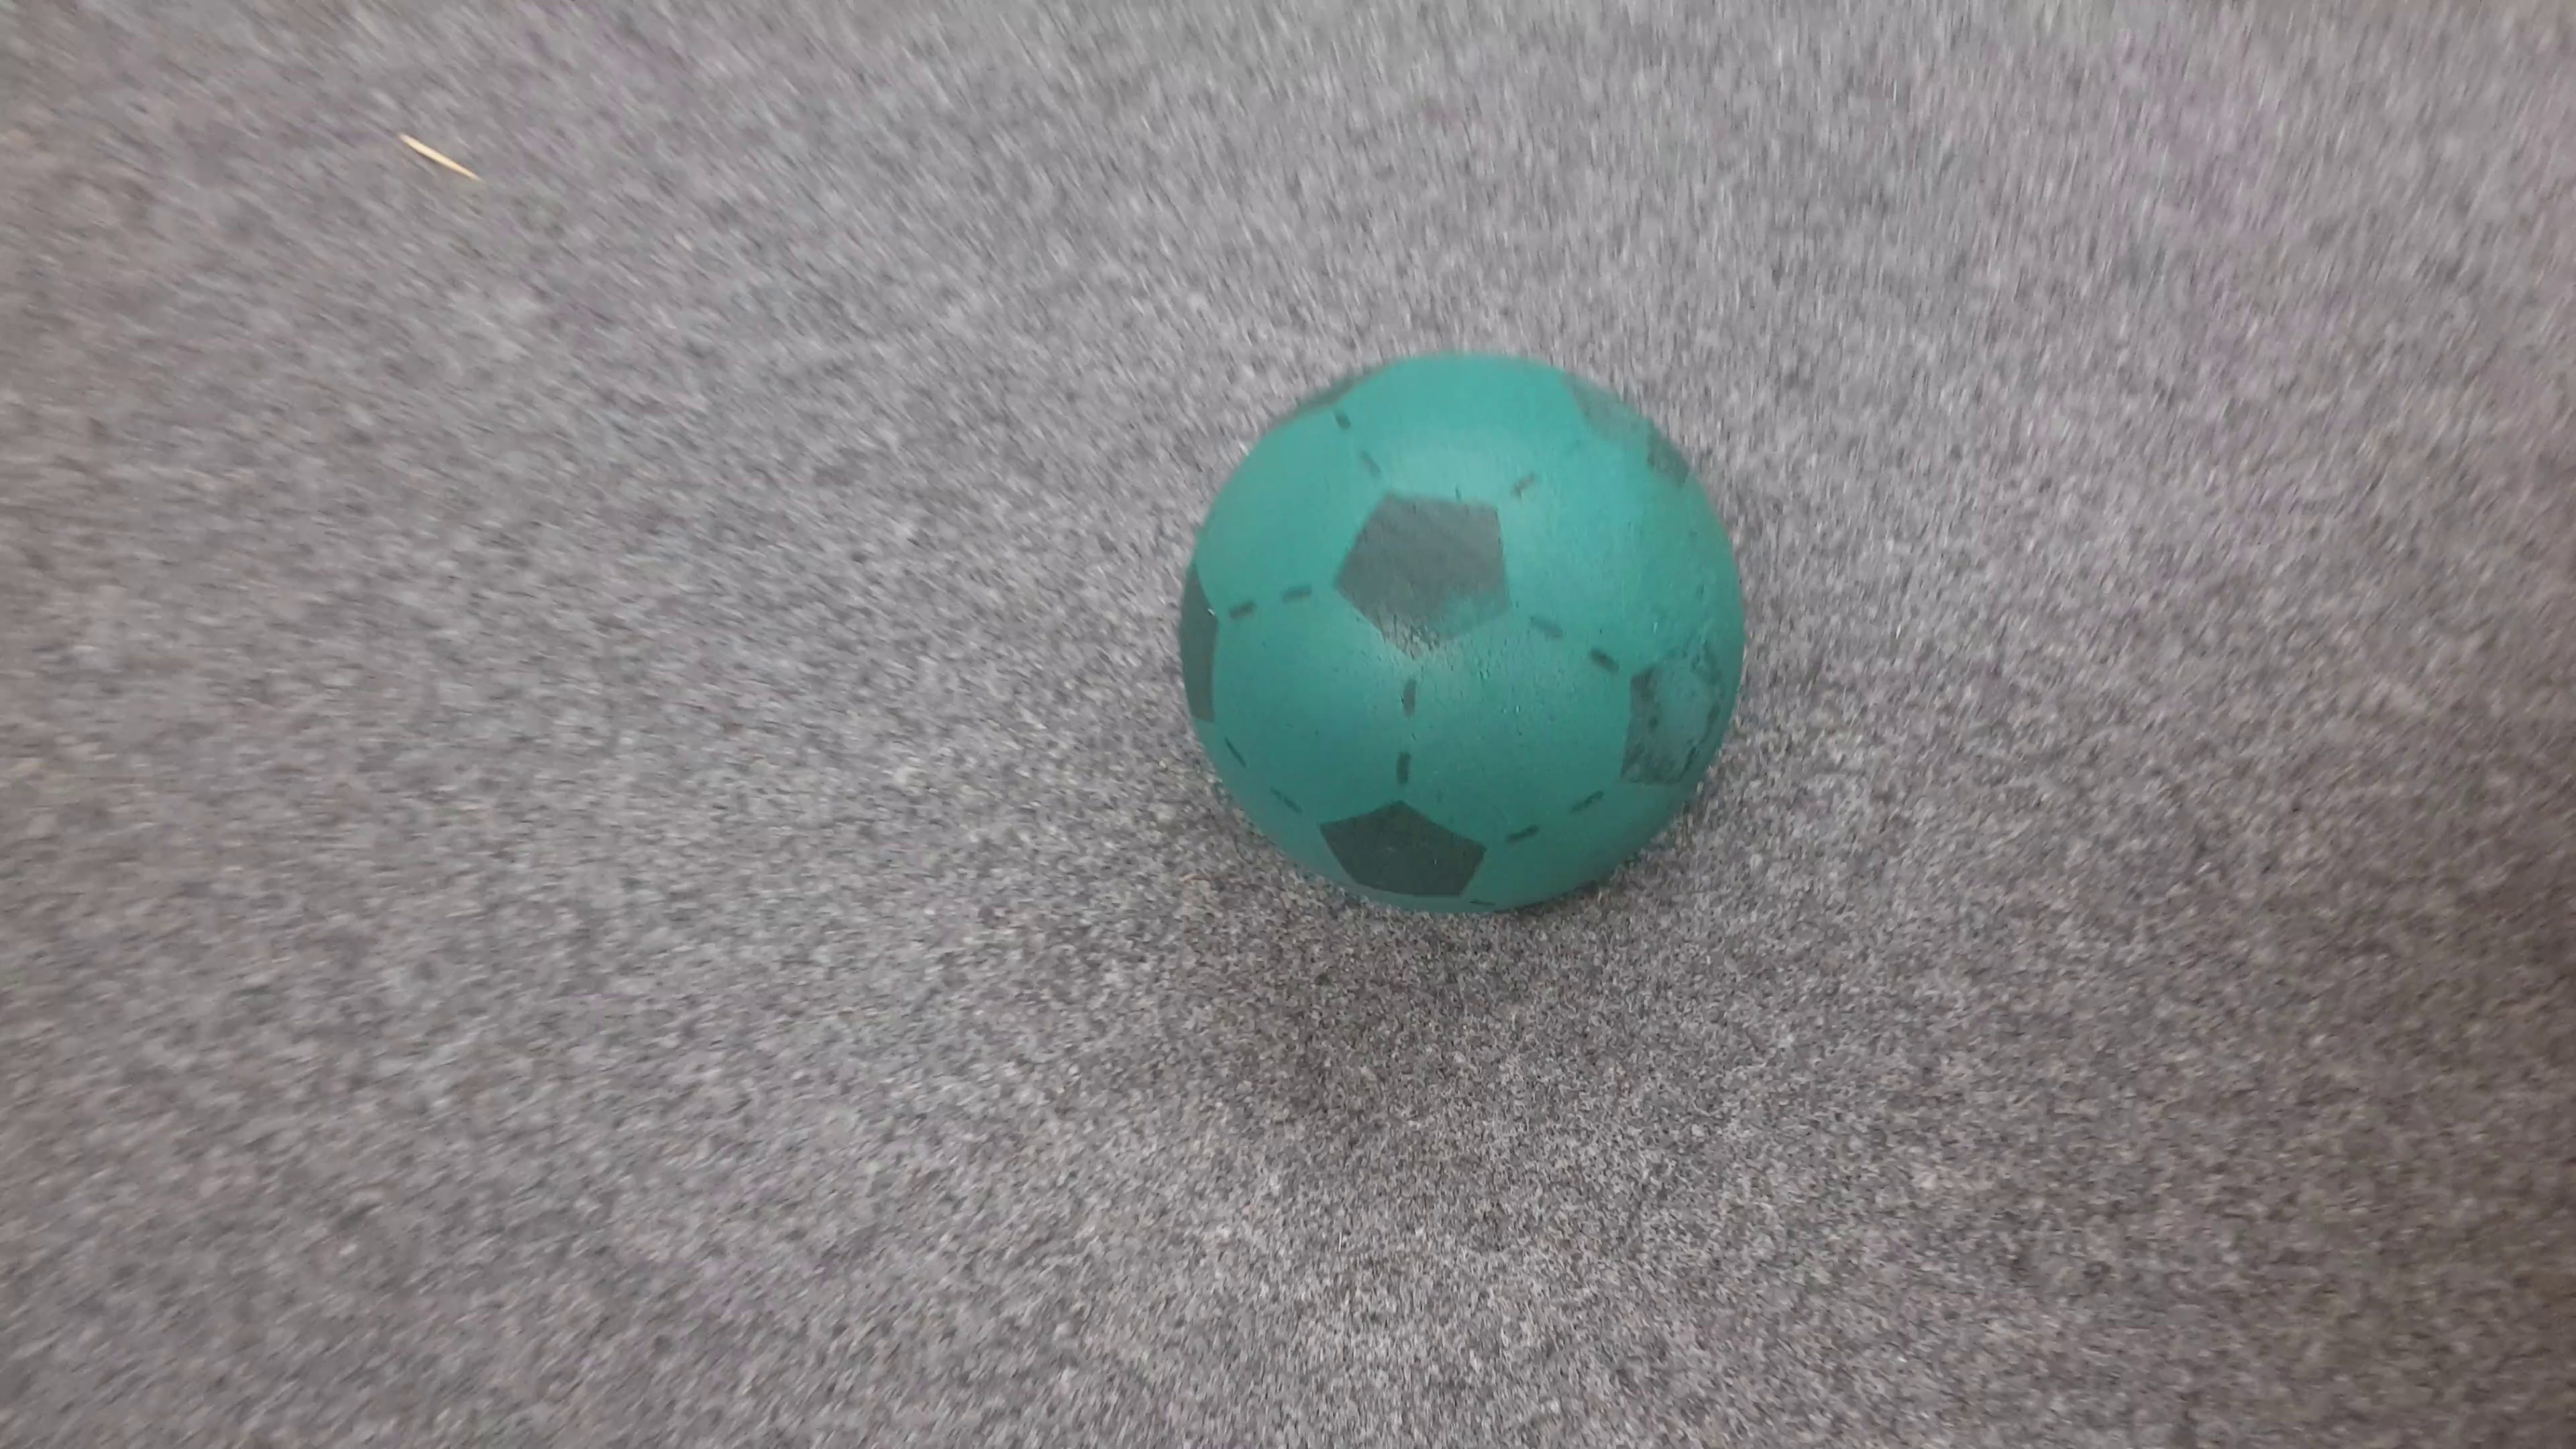kick: (1191, 345, 1752, 931)
